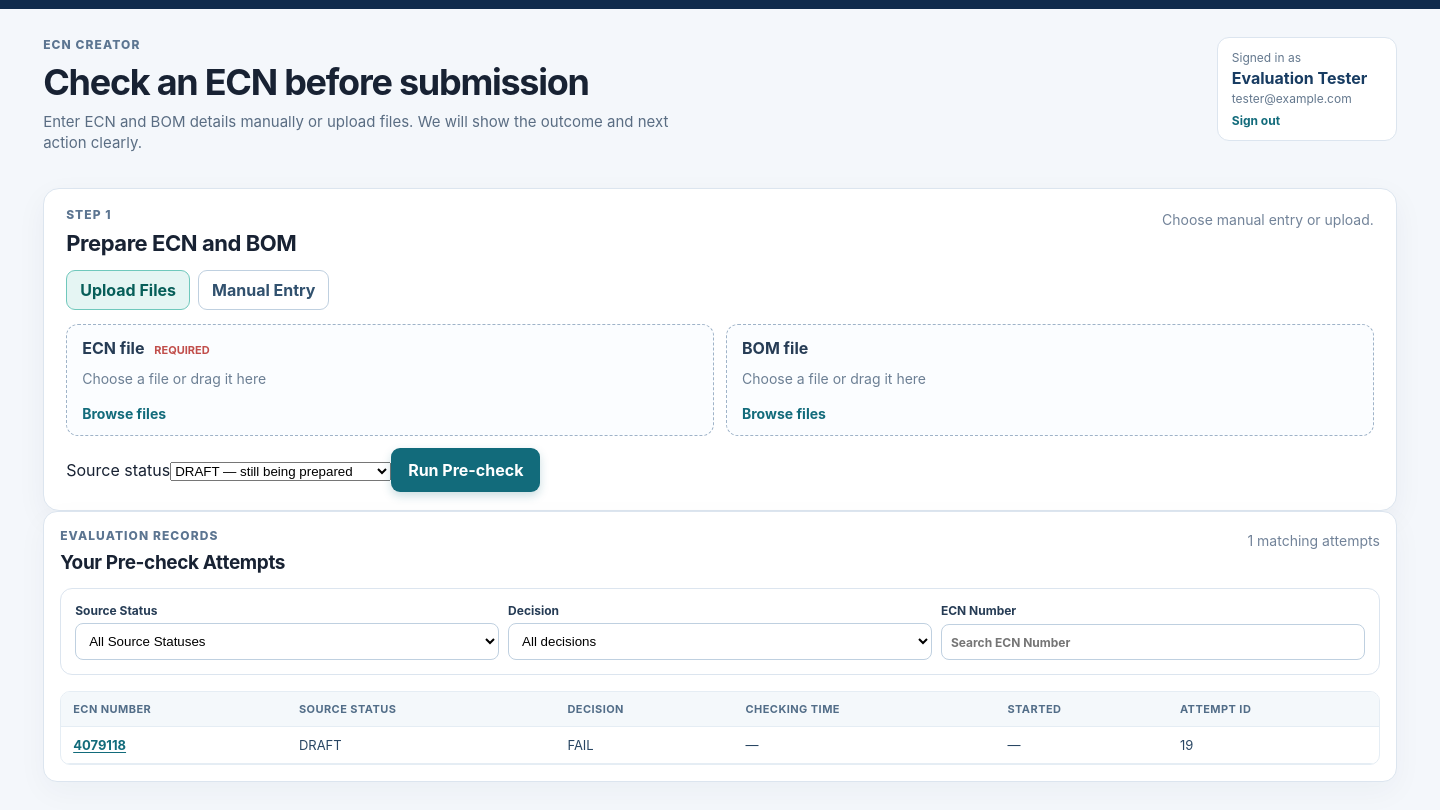
Scenario: tester pre-check workflow › opens a tester-owned attempt and shows its saved result and rule evidence
(page scrolled)
Click the button named "View results for ECN 4079118" at (100, 745), box [73,737,126,753]
(page scrolled)
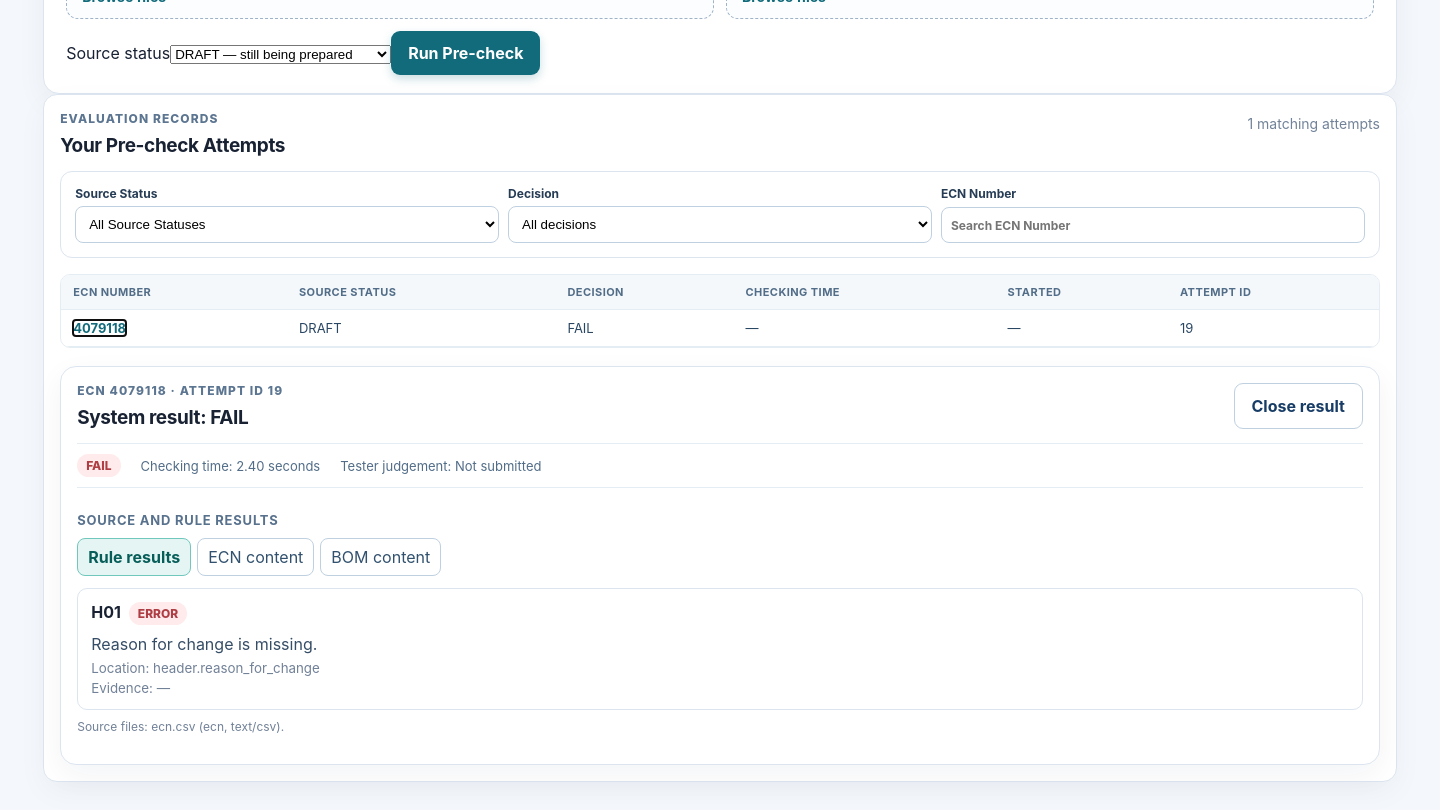
Check: the heading "System result: FAIL" is shown, box [77,406,248,429]
Check: the text "Checking time: 2.40 seconds" is shown, box [141,458,320,474]
Check: the text "Reason for change is missing." is shown, box [91,634,317,654]
Click the tab "ECN content" at (256, 557), box [197,538,314,576]
(page scrolled)
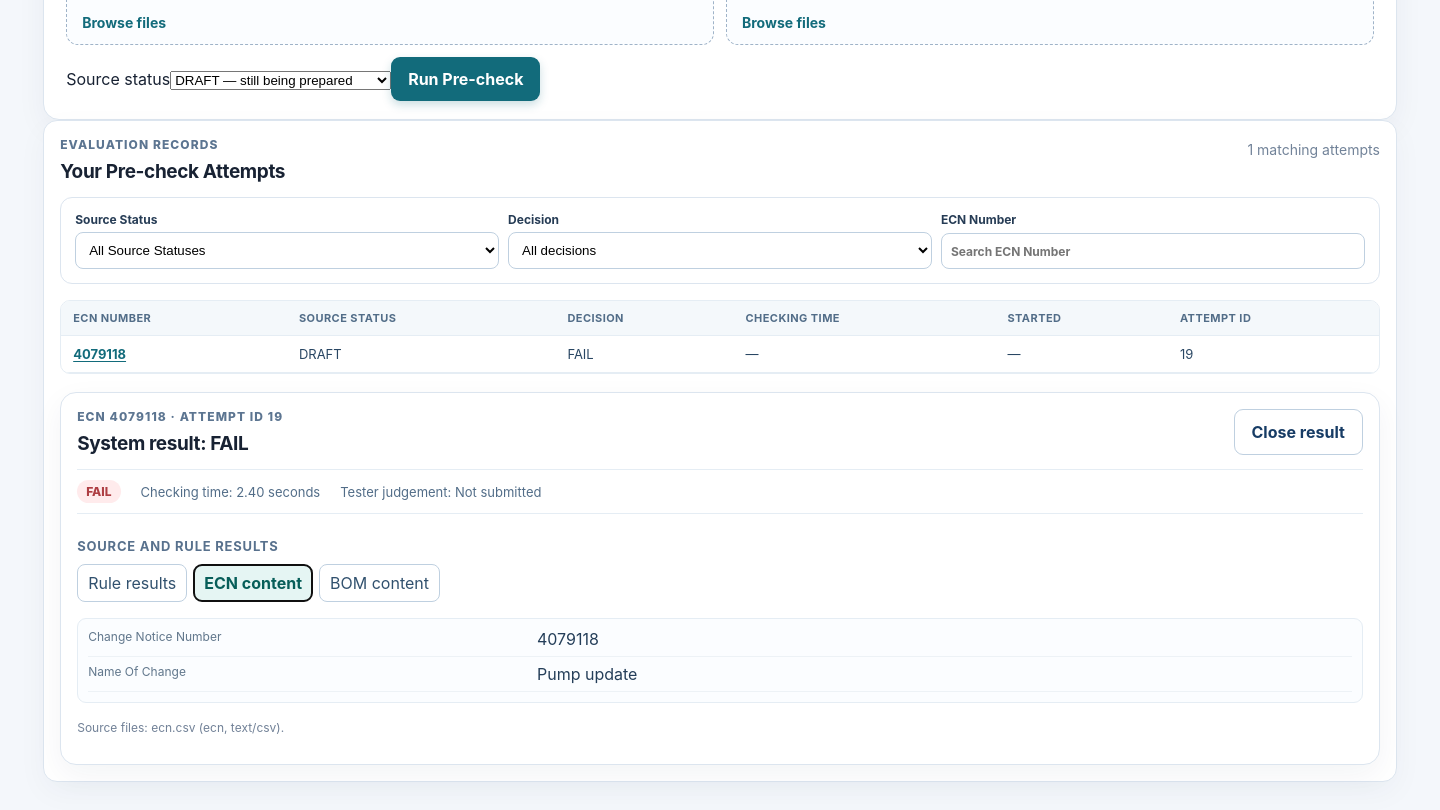
Check: the text "Pump update" is shown, box [537,664,637,684]
Click the tab "BOM content" at (380, 583), box [319,564,440,602]
(page scrolled)
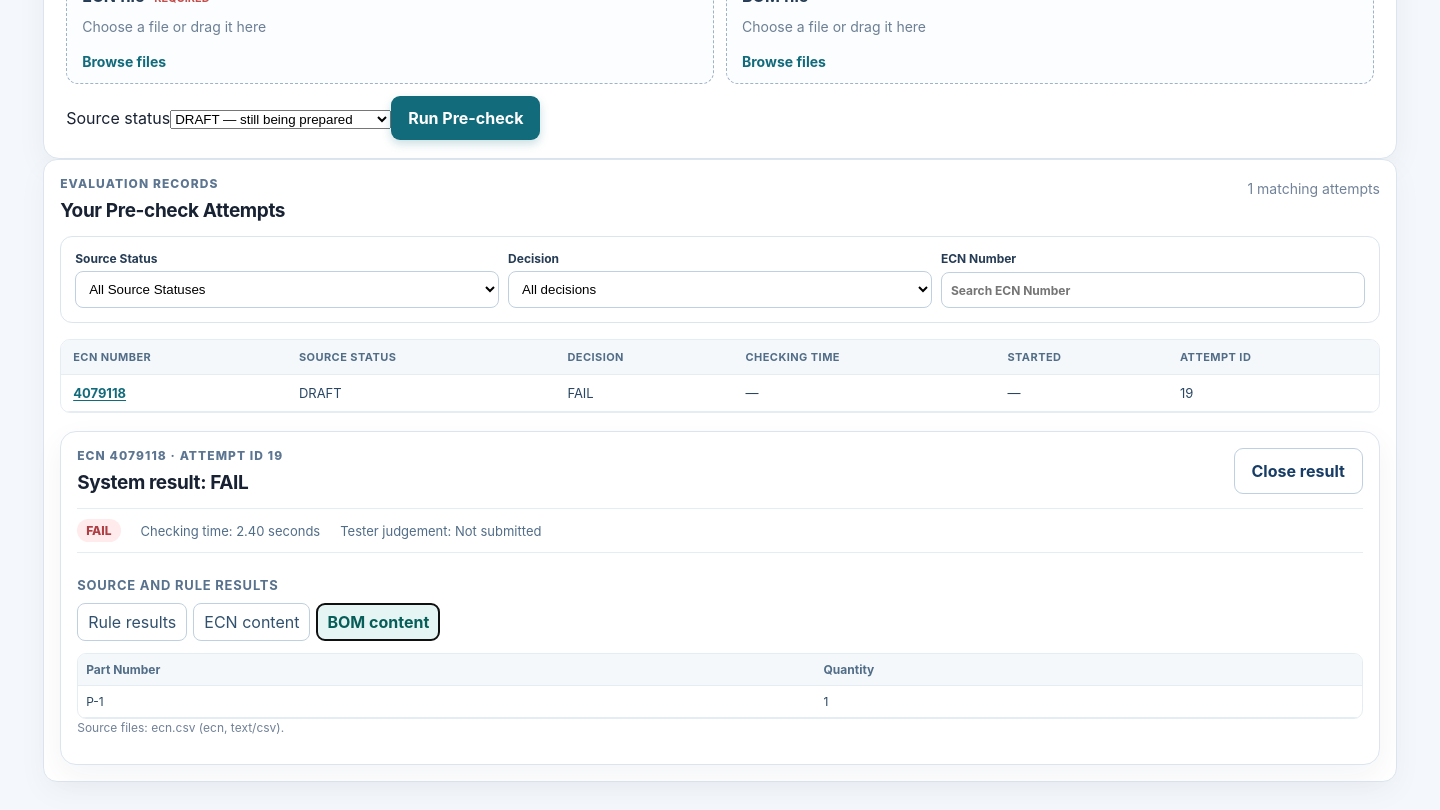
Check: the text "P-1" is shown, box [78,686,816,718]
